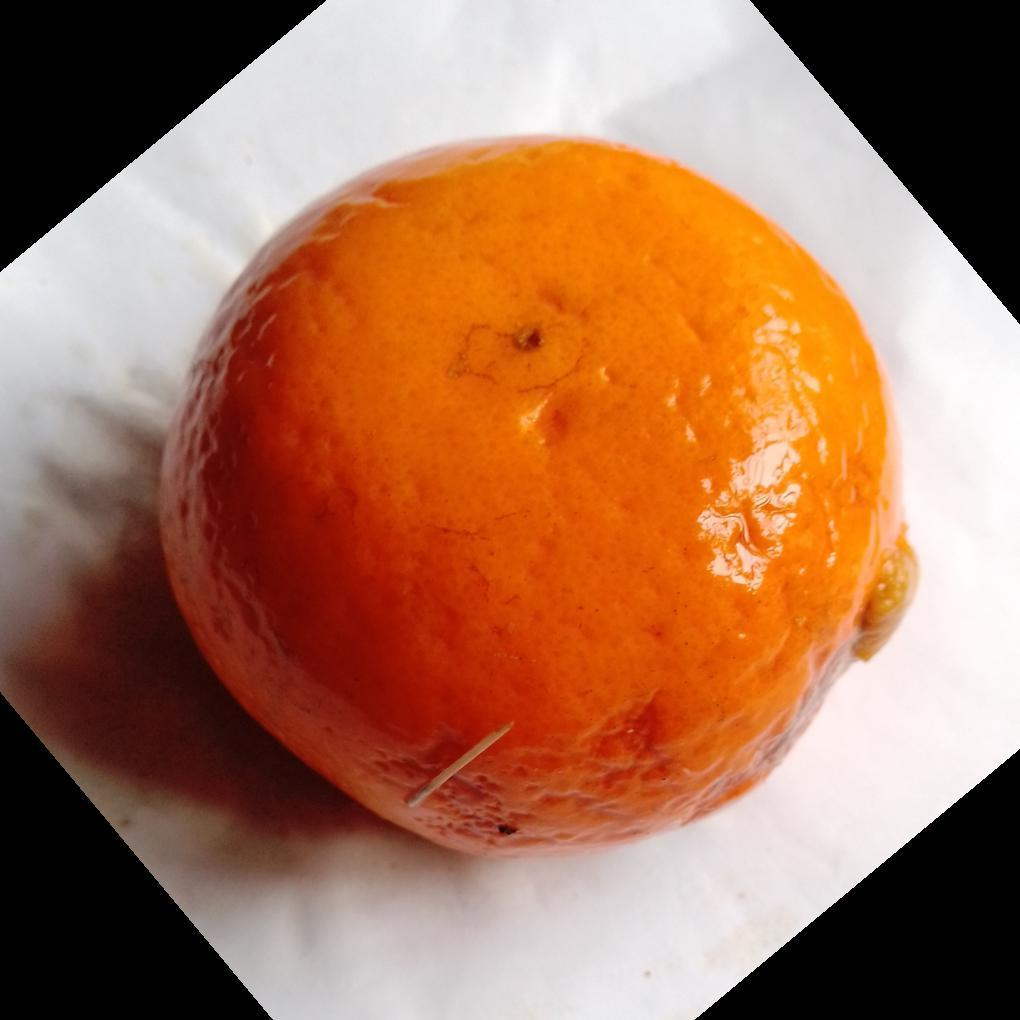FreshOrange: (154, 135, 917, 861)
